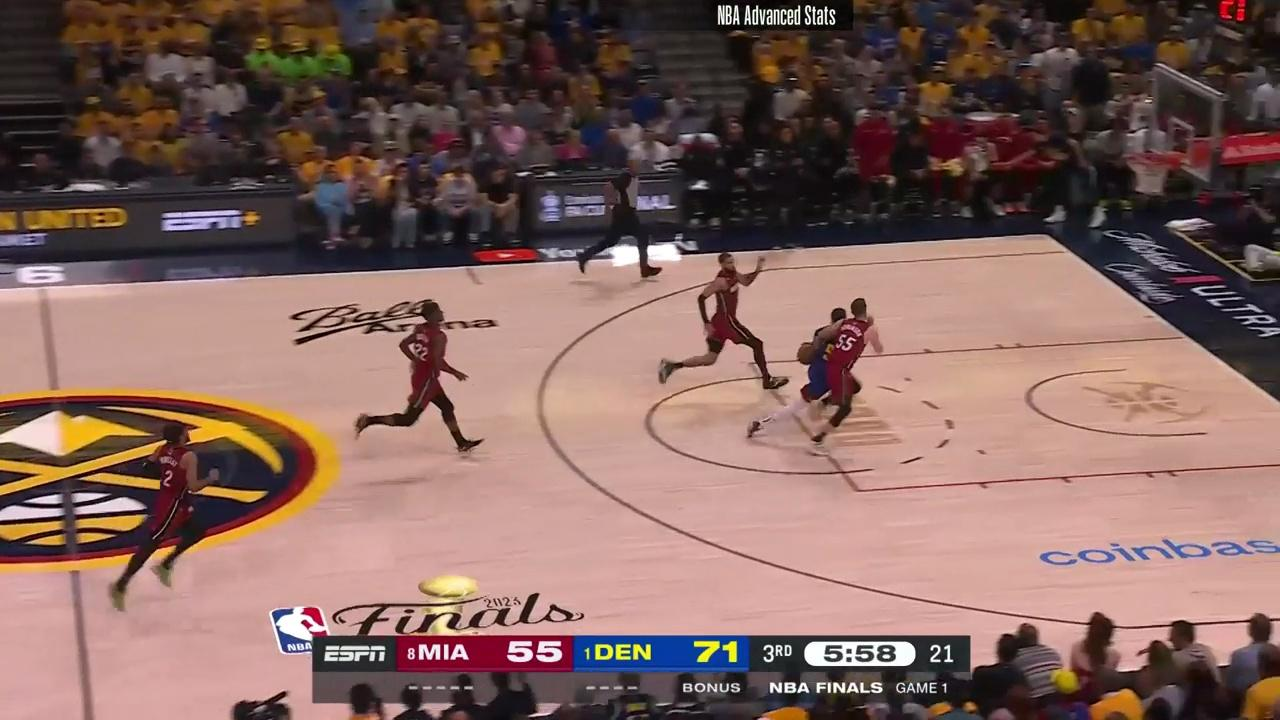Backboard: (1152, 72, 1230, 189)
Ball: (800, 346, 814, 363)
Basket: (1124, 154, 1181, 194)
Person: (353, 301, 484, 464), (104, 421, 206, 614), (664, 253, 790, 399), (767, 313, 856, 458), (806, 297, 887, 442)
Referee: (576, 155, 669, 283)
Shot Clock: (1206, 2, 1262, 45)
